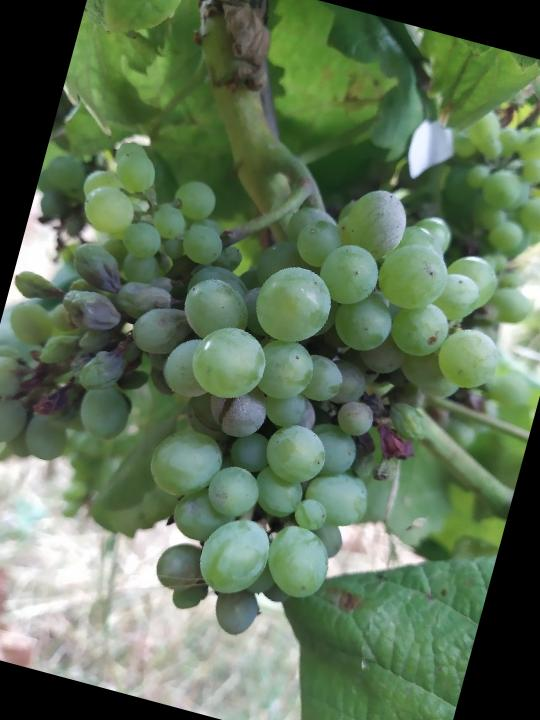grape: (0, 106, 537, 684)
